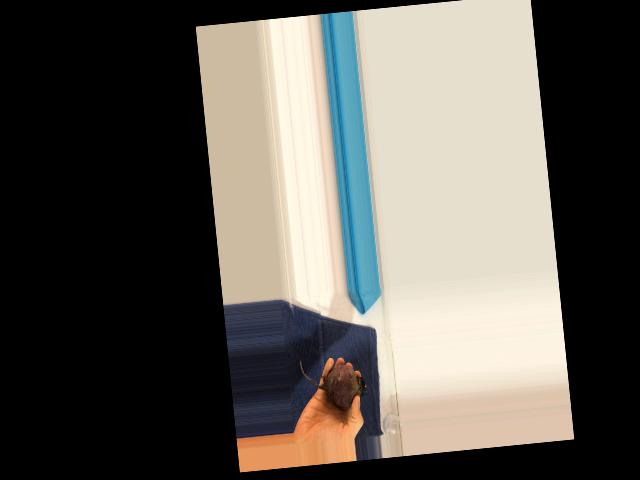beet: (299, 352, 368, 413)
